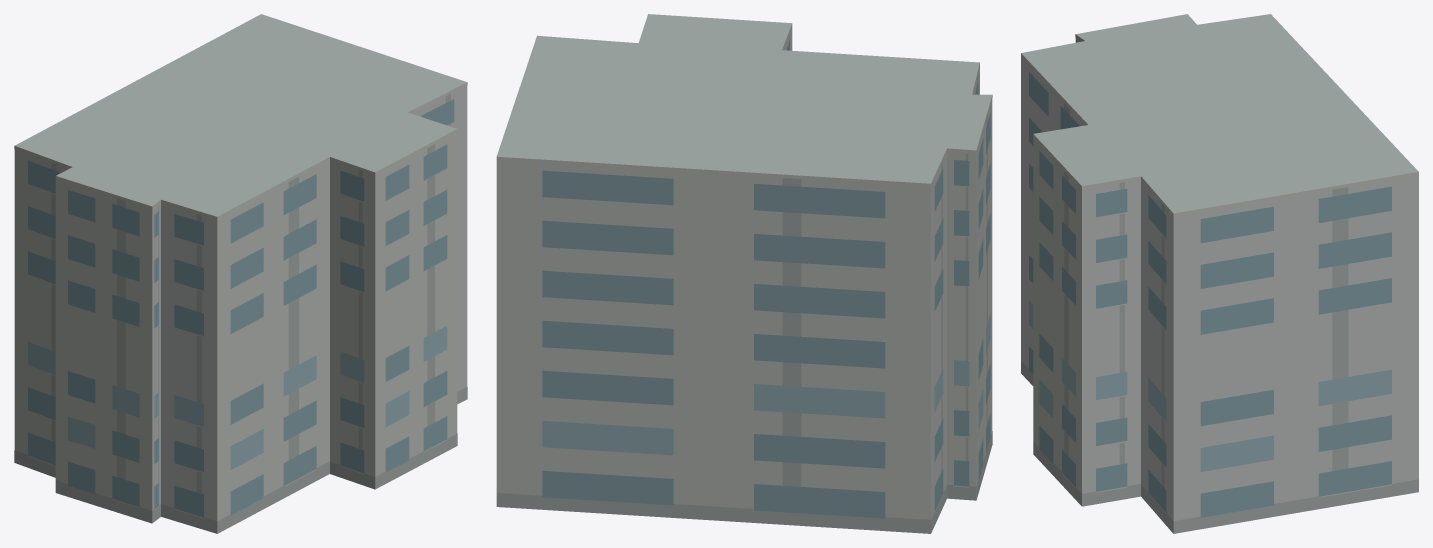
Rendered from survey-upis-32856469.glb.
3 views of the same model, side by side, from view 1: azimuth 30°, elevation 25°; view 2: azimuth 150°, elevation 25°; view 3: azimuth 270°, elevation 25° (orthographic). The views are drawn at different scales.
Visible parts, largest first — view 1: survey-upis-32856469.tmp; view 2: survey-upis-32856469.tmp; view 3: survey-upis-32856469.tmp.
Boxes of the visible parts, x1,y1,x2,y2 form: survey-upis-32856469.tmp: [14, 14, 467, 533]; survey-upis-32856469.tmp: [496, 14, 992, 533]; survey-upis-32856469.tmp: [1021, 14, 1418, 533].
Size of the model in its own units: 32.84 by 24.57 by 27.66.
